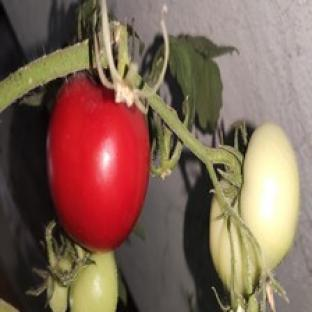Tomato: (48, 74, 150, 250), (211, 123, 299, 293), (209, 195, 260, 293), (70, 253, 118, 311)
